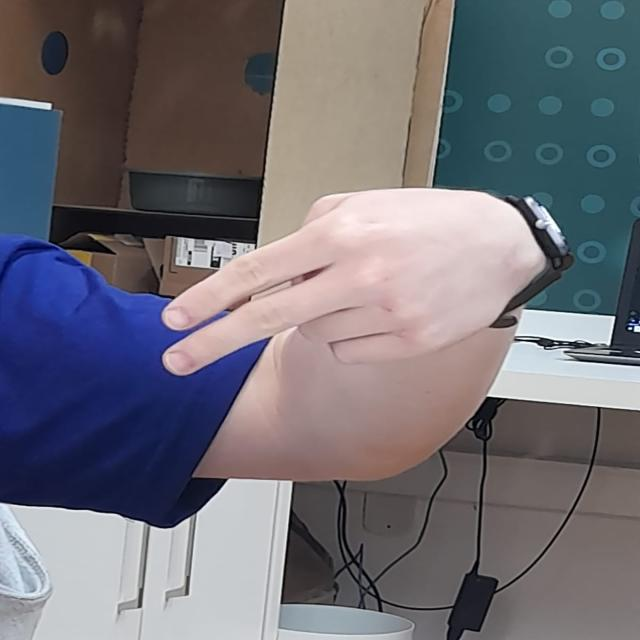N: (147, 178, 522, 378)
